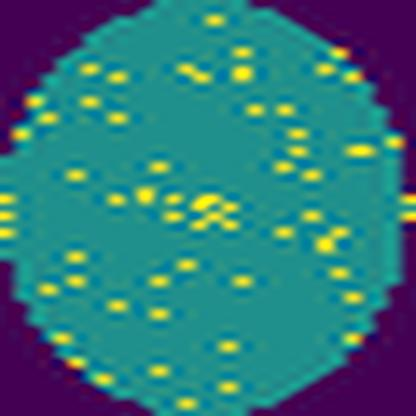Center: (181, 187, 248, 241)
